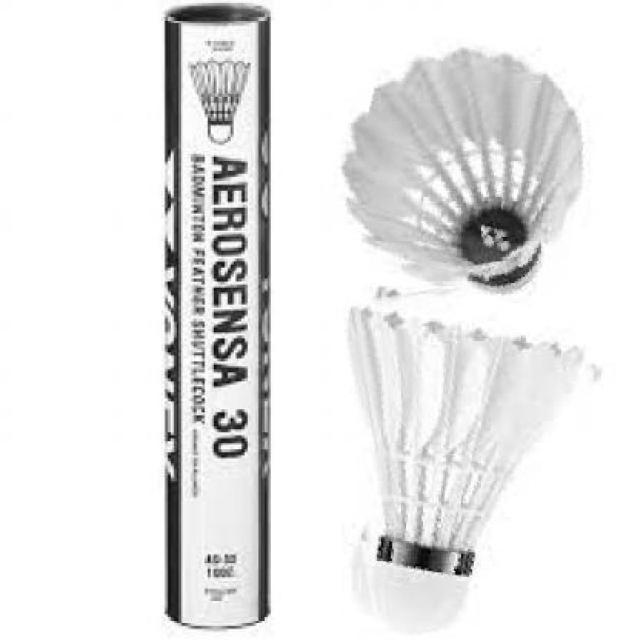Shuttlecock: (334, 274, 620, 632), (328, 31, 600, 298)
